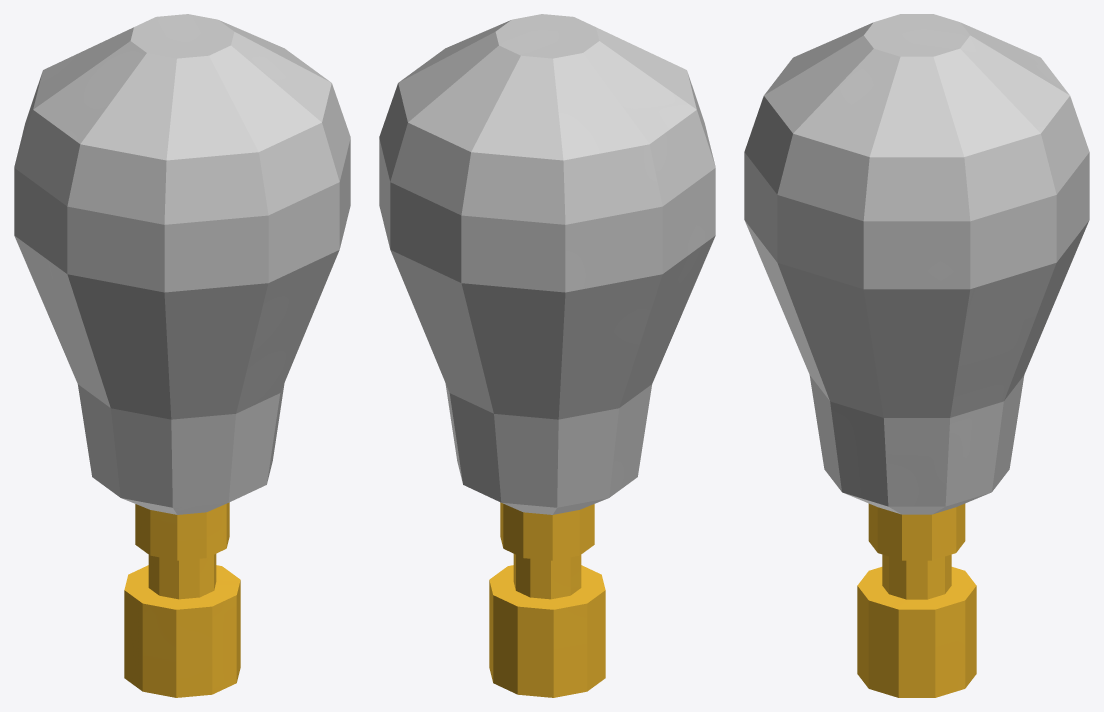
File: Light_Blub.fbx
3 views of the same model, side by side, from view 1: azimuth 30°, elevation 25°; view 2: azimuth 150°, elevation 25°; view 3: azimuth 270°, elevation 25° (orthographic).
Visible parts, largest first — view 1: Light_Blub; view 2: Light_Blub; view 3: Light_Blub.
Boxes of the visible parts, left/top/right/bottom form: Light_Blub: left=14, top=14, right=350, bottom=697; Light_Blub: left=379, top=14, right=715, bottom=697; Light_Blub: left=744, top=14, right=1089, bottom=697.
Bounding box in the file's own units: 0.0946 × 0.2031 × 0.0995.
